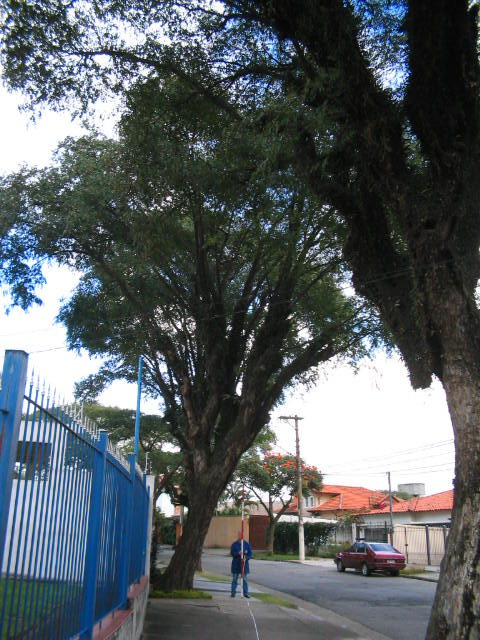crown: (3, 59, 382, 390)
stem: (153, 472, 234, 590)
stick: (231, 484, 254, 597)
tree: (1, 56, 386, 593)
